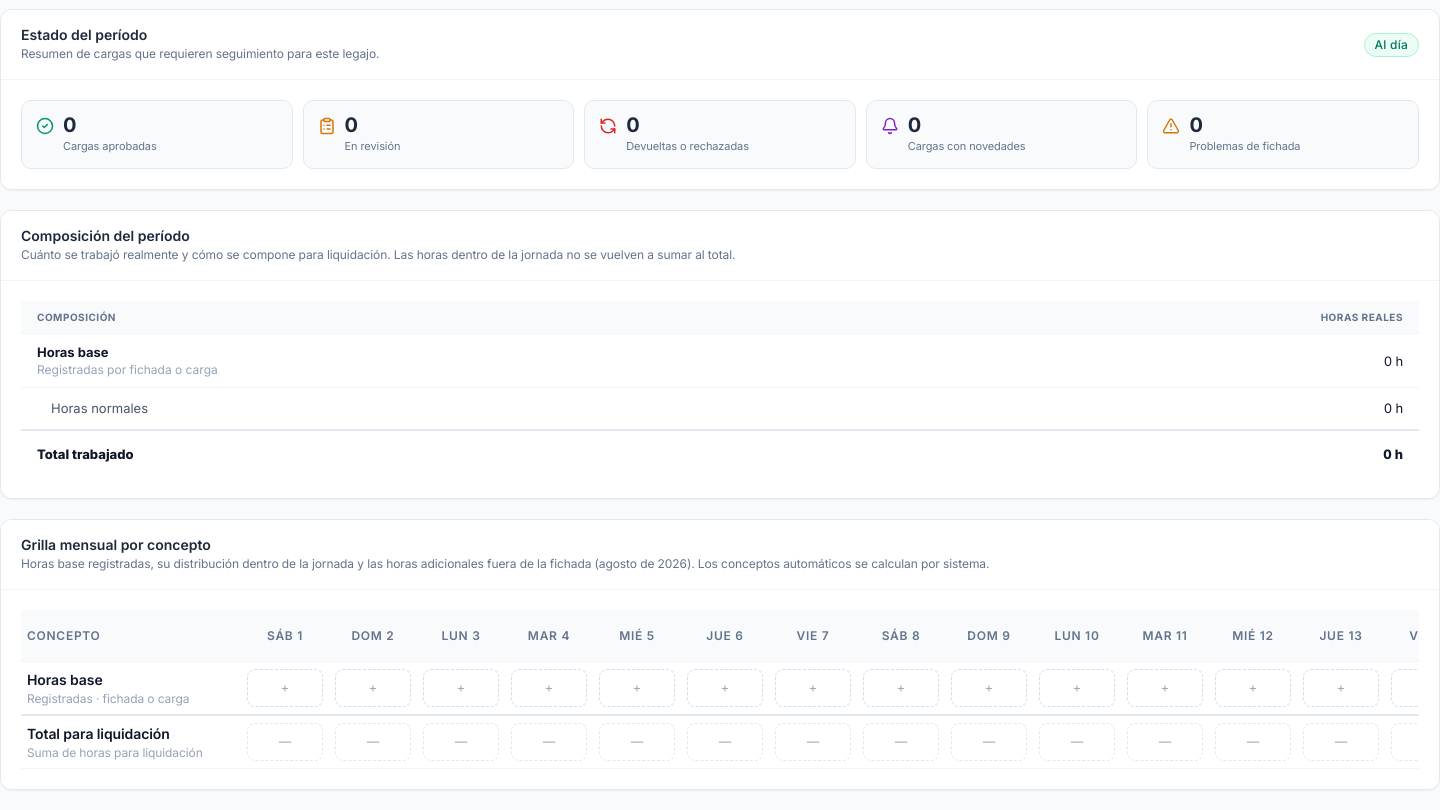
Test: EmployeeHoursPage — Hora normal es universal (bug: HOUR_CONCEPT_NOT_ENABLED sin conceptos adicionales) › si el backend igual rechazara la carga por otro motivo, sigue mostrando ese error tal cual (la corrección no oculta errores reales)
(page scrolled)
Step 1. Click the 1st button "+" → (285, 688), box [247, 669, 323, 707]
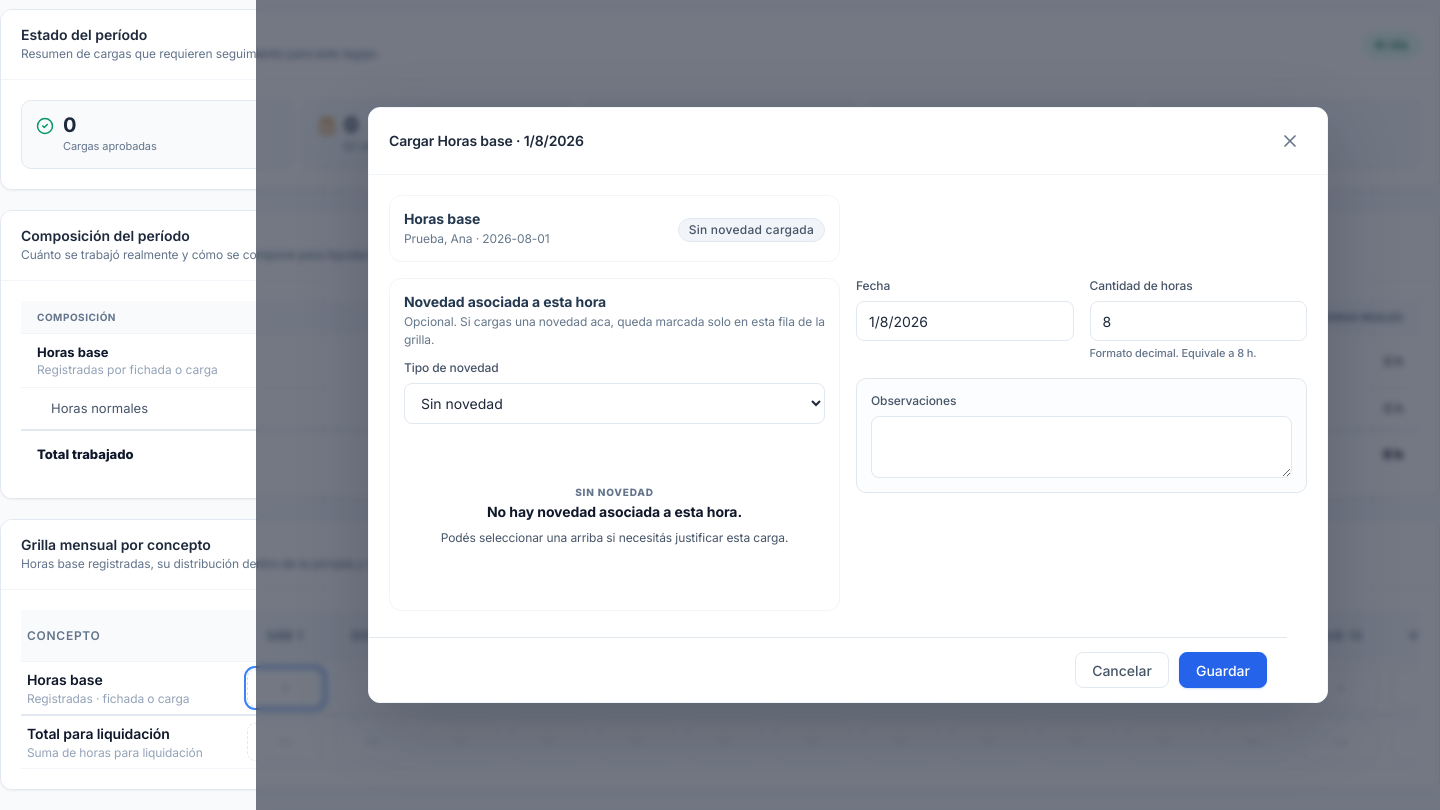
Step 2. Click the button "Guardar" → (1223, 670), box [1179, 652, 1267, 688]
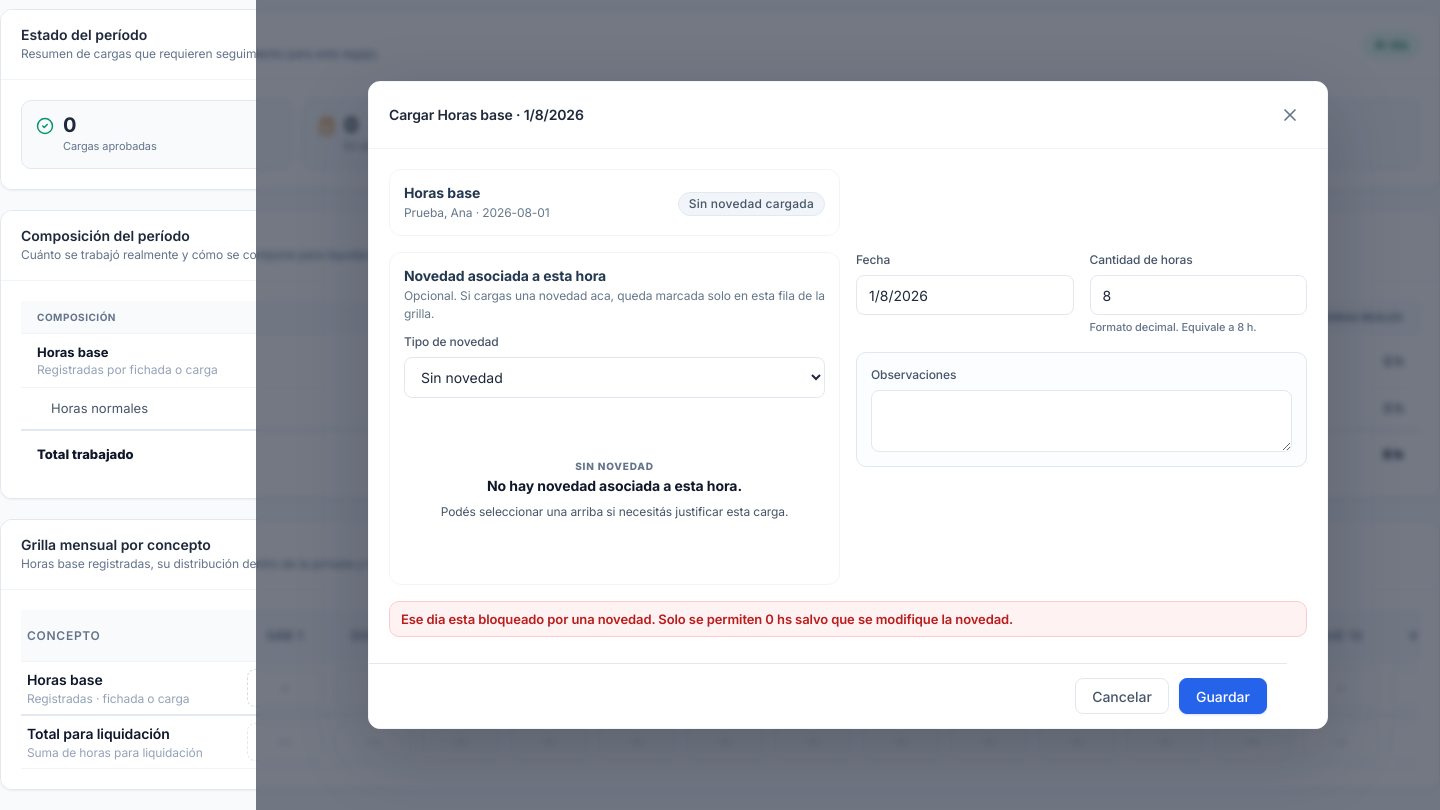
Expected: the text "Ese dia esta bloqueado por una novedad. Solo se permiten 0 hs salvo que se modifique la novedad." is shown, [401, 611, 1013, 627]
